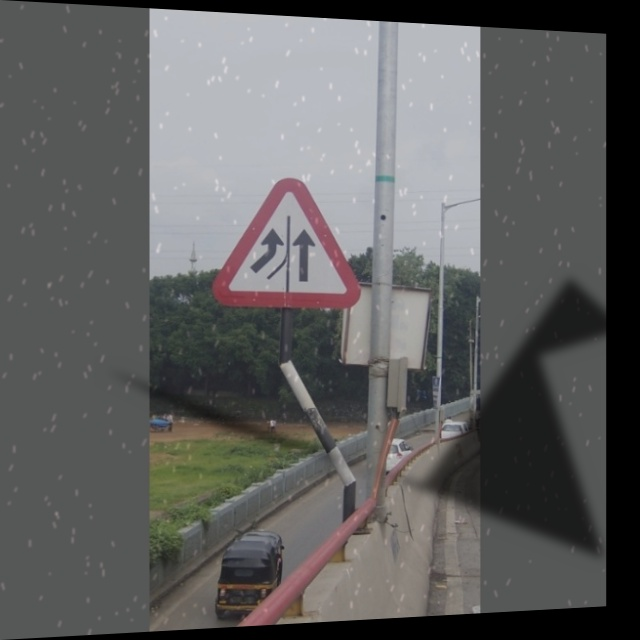Merge_Traffic_Ahead: (213, 169, 364, 318)
